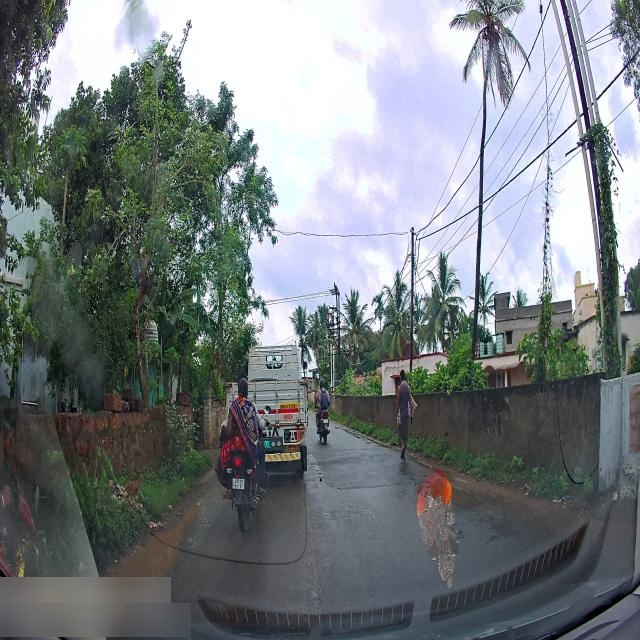pothole: (101, 501, 203, 582), (455, 483, 482, 510), (490, 512, 512, 538)
